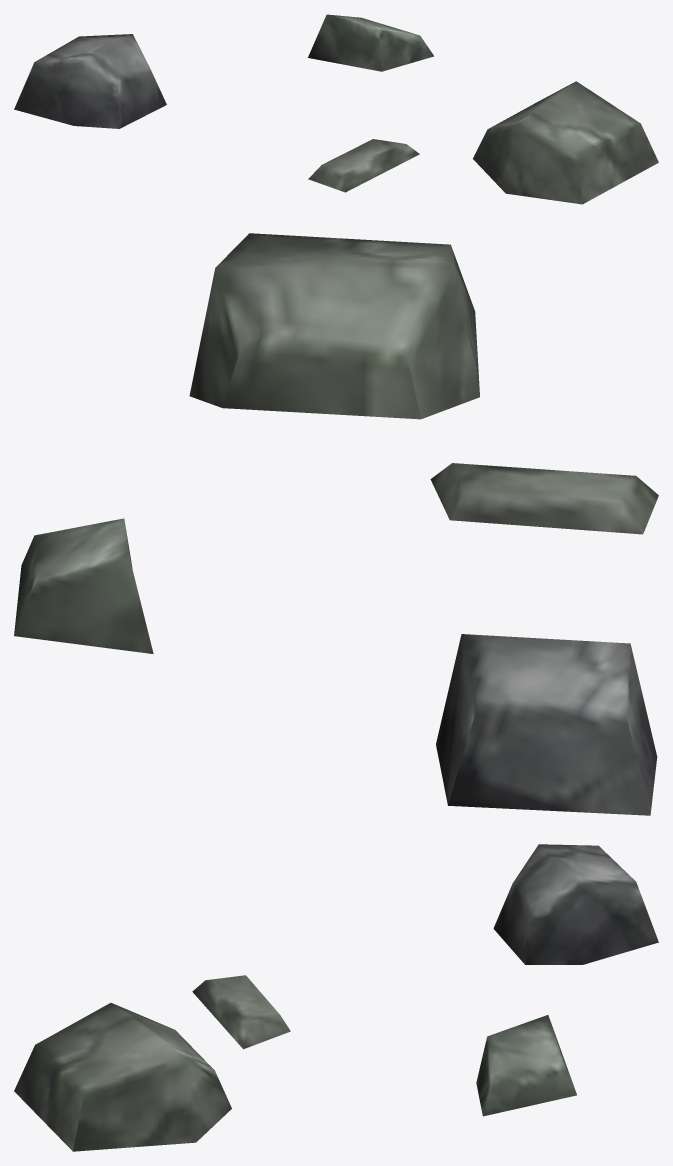
The model's file is Area_12_57.fbx.
3 views of the same model, one above another, from view 1: azimuth 30°, elevation 25°; view 2: azimuth 150°, elevation 25°; view 3: azimuth 270°, elevation 25° (orthographic). The views are drawn at different scales.
Visible parts, largest first — view 1: Area_12_57; view 2: Area_12_57; view 3: Area_12_57.
Part boxes in pixels (bbox=[...]): Area_12_57: bbox=[14, 14, 658, 204]; Area_12_57: bbox=[14, 233, 658, 815]; Area_12_57: bbox=[14, 844, 658, 1151].
Bounding box in the file's own units: 258 × 36.88 × 272.
